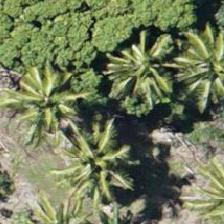coconut_tree: (49, 129, 139, 219), (88, 27, 178, 117), (0, 51, 85, 141), (163, 24, 223, 114)
